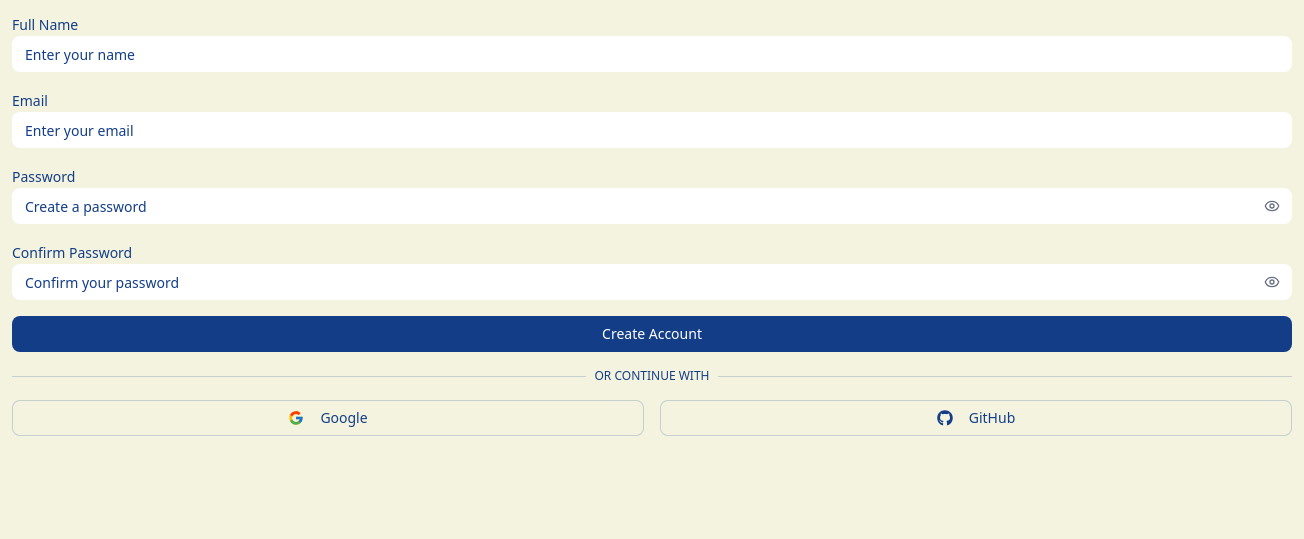
SignupForm Component › form submit displays verification email sent message on success
The width and height of the screenshot is (1304, 539).
Type "John Doe" into the field with placeholder "Enter your name" at (652, 54), box [12,36,1292,72]
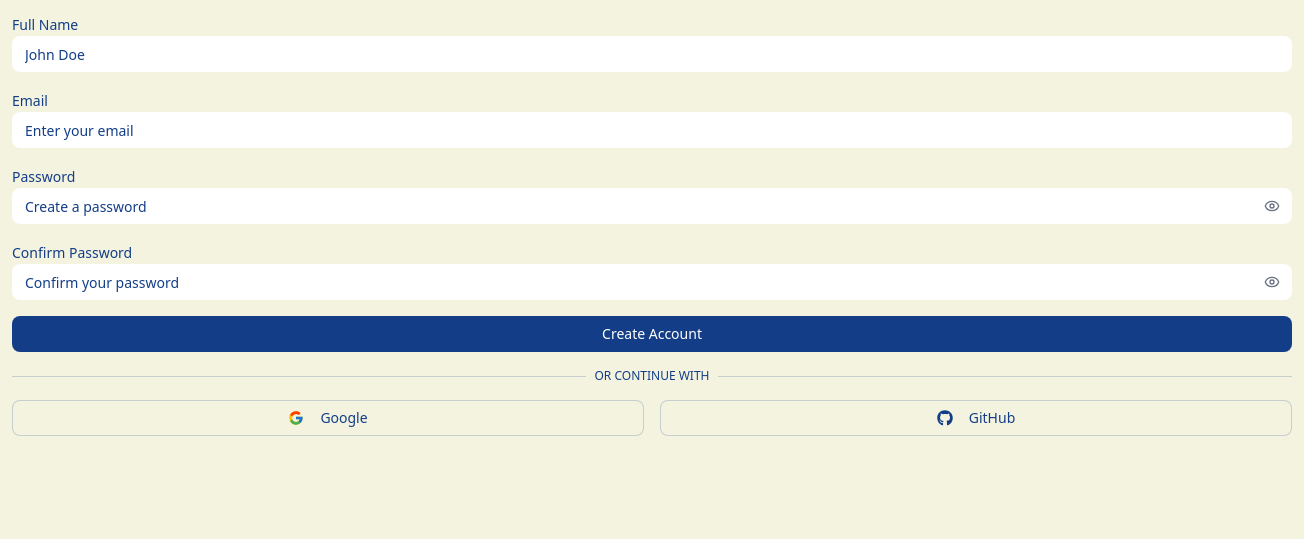
Type "test@example.com" into the field with placeholder "Enter your email" at (652, 130), box [12,112,1292,148]
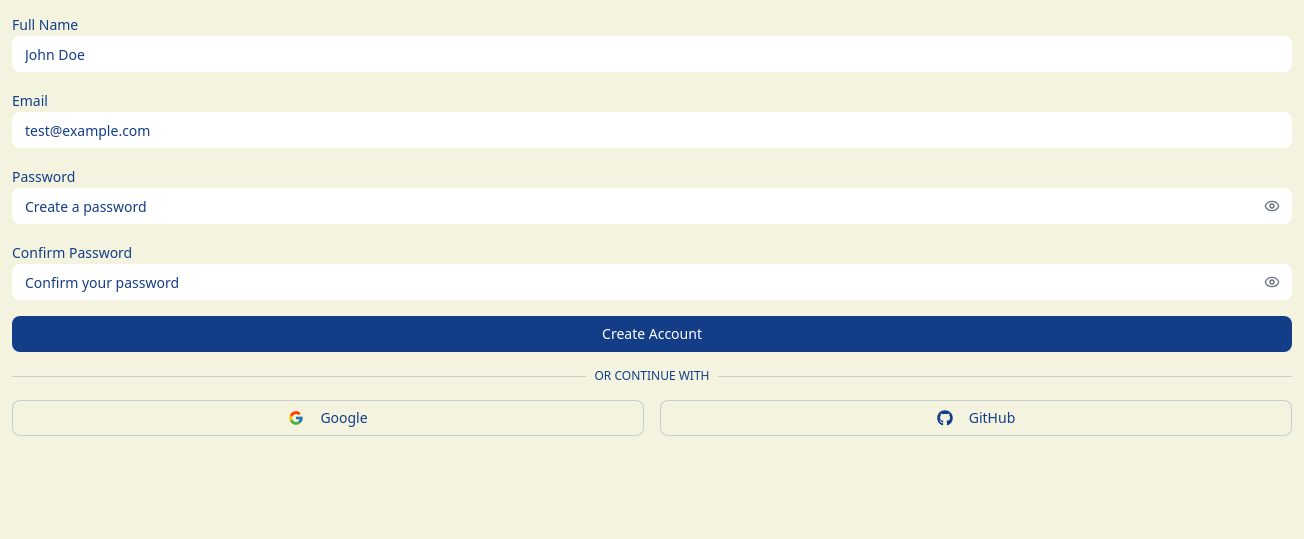
Type "password123" into the password field with placeholder "Create a password" at (652, 206), box [12,188,1292,224]
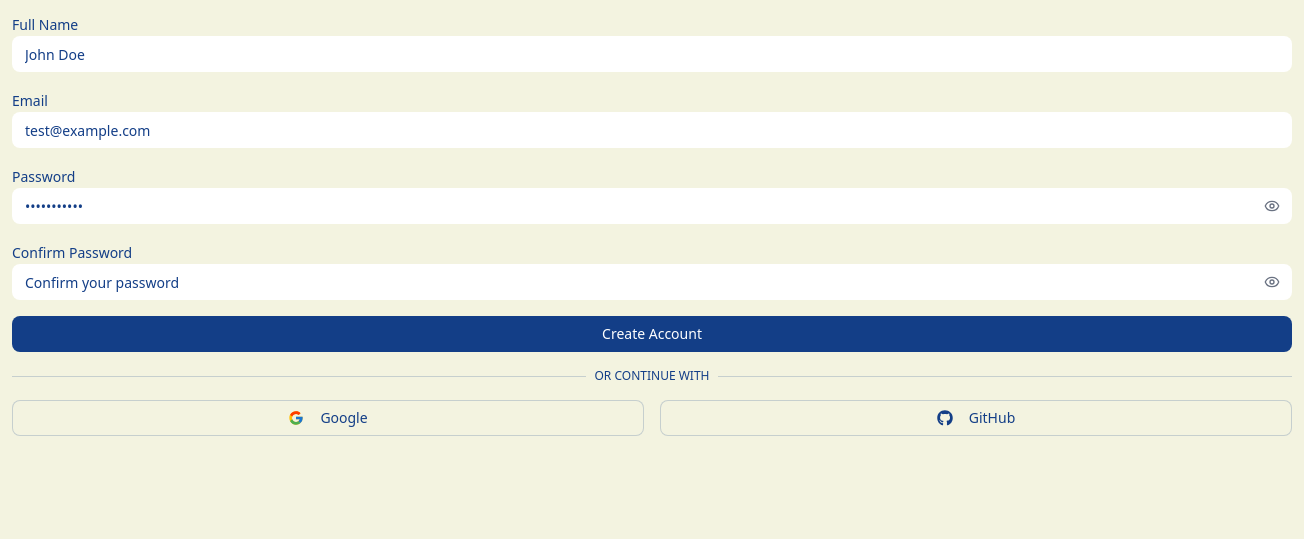
Type "password123" into the password field with placeholder "Confirm your password" at (652, 282), box [12,264,1292,300]
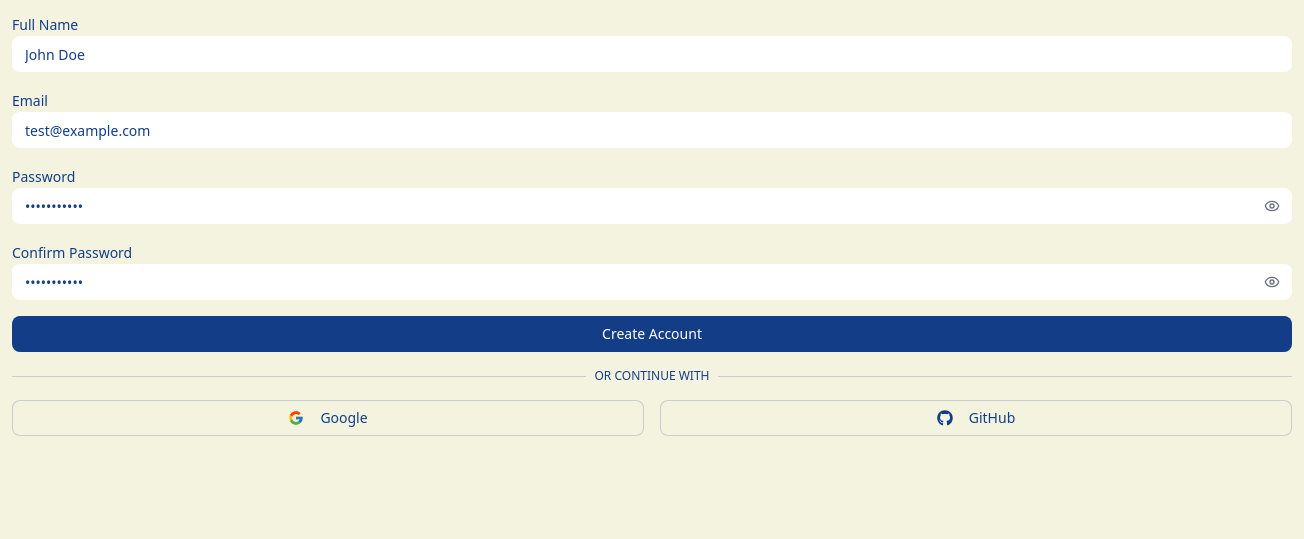
Click the button "Create Account" at (652, 334), box [12,316,1292,352]
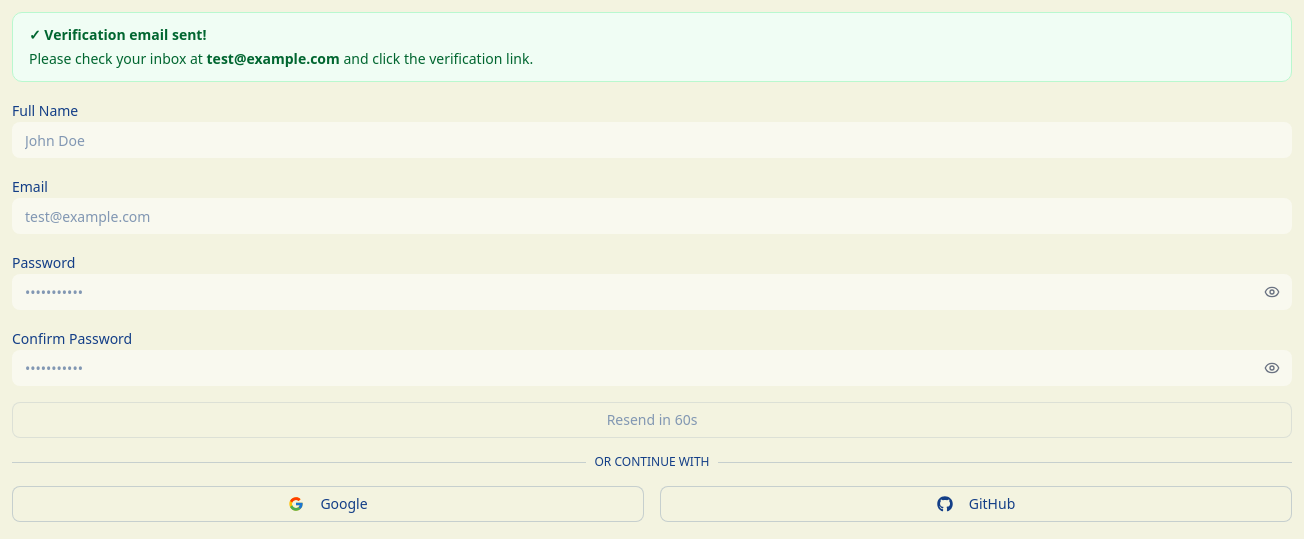
Result: the text "✓ Verification email sent!" is shown at [29,25,206,44]
Result: the text "test@example.com" is shown at [206,49,340,68]
